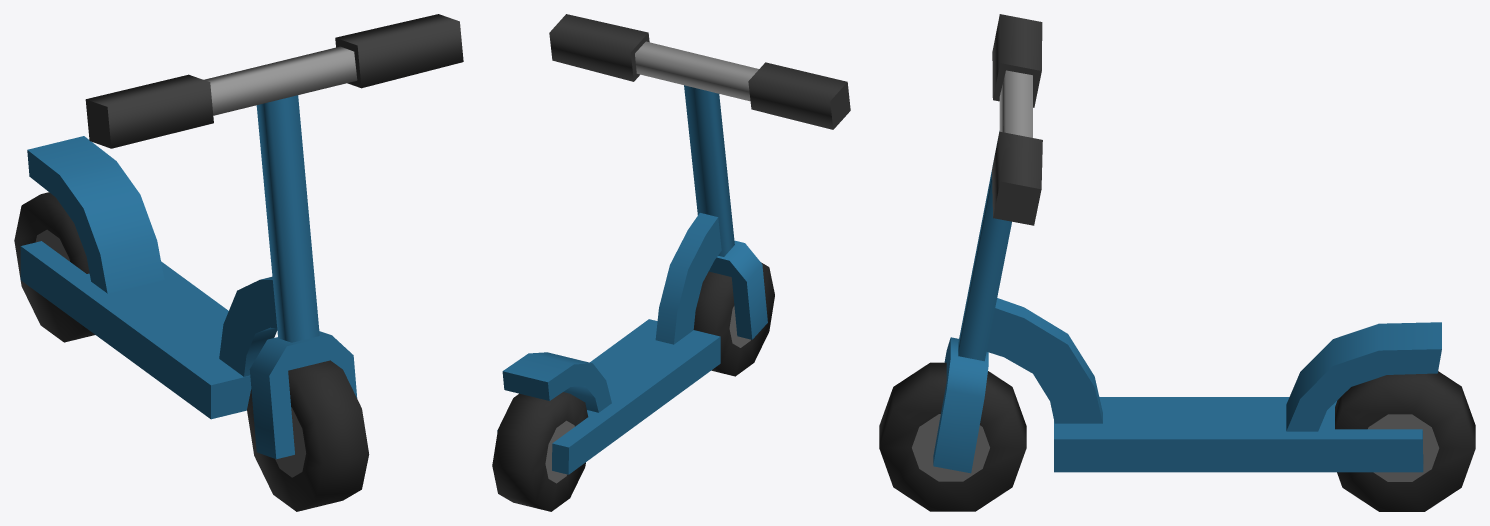
Rendered from scooter_v1.fbx.
The picture shows the model from 3 angles, left to right: view 1: azimuth 30°, elevation 25°; view 2: azimuth 150°, elevation 25°; view 3: azimuth 270°, elevation 25°; orthographic projection. The views are drawn at different scales.
Visible parts, largest first — view 1: scooter_v1; view 2: scooter_v1; view 3: scooter_v1.
Boxes of the visible parts, <box> form: scooter_v1: <box>14,14,463,511</box>; scooter_v1: <box>492,14,850,511</box>; scooter_v1: <box>879,14,1475,511</box>.
Size of the model in its own units: 72.33 by 81.67 by 109.
